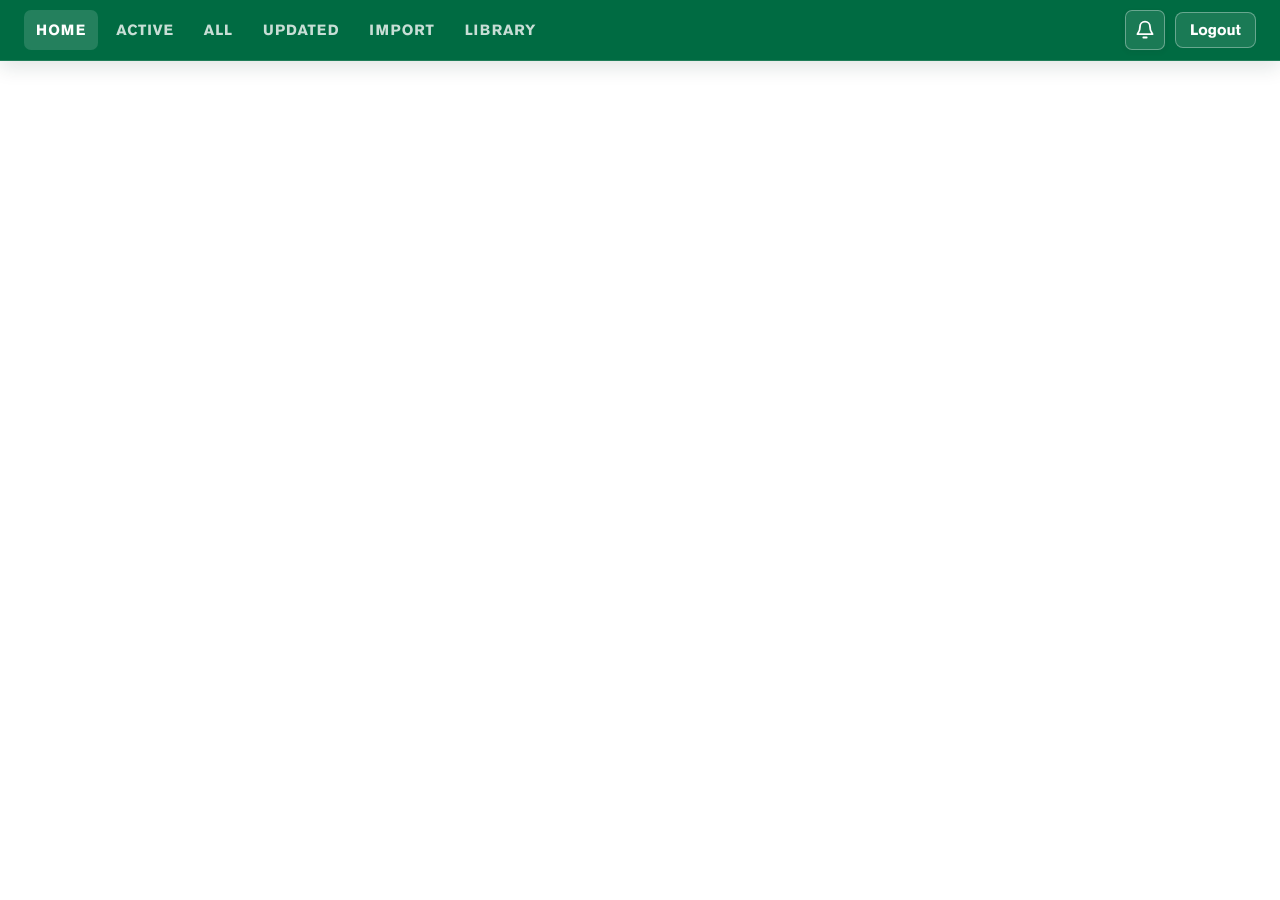
client comment notifications › allows staff to see internal notifications returned by RLS
Click the button named "Messages and acquisitions" at (1145, 30), box [1125,10,1165,50]
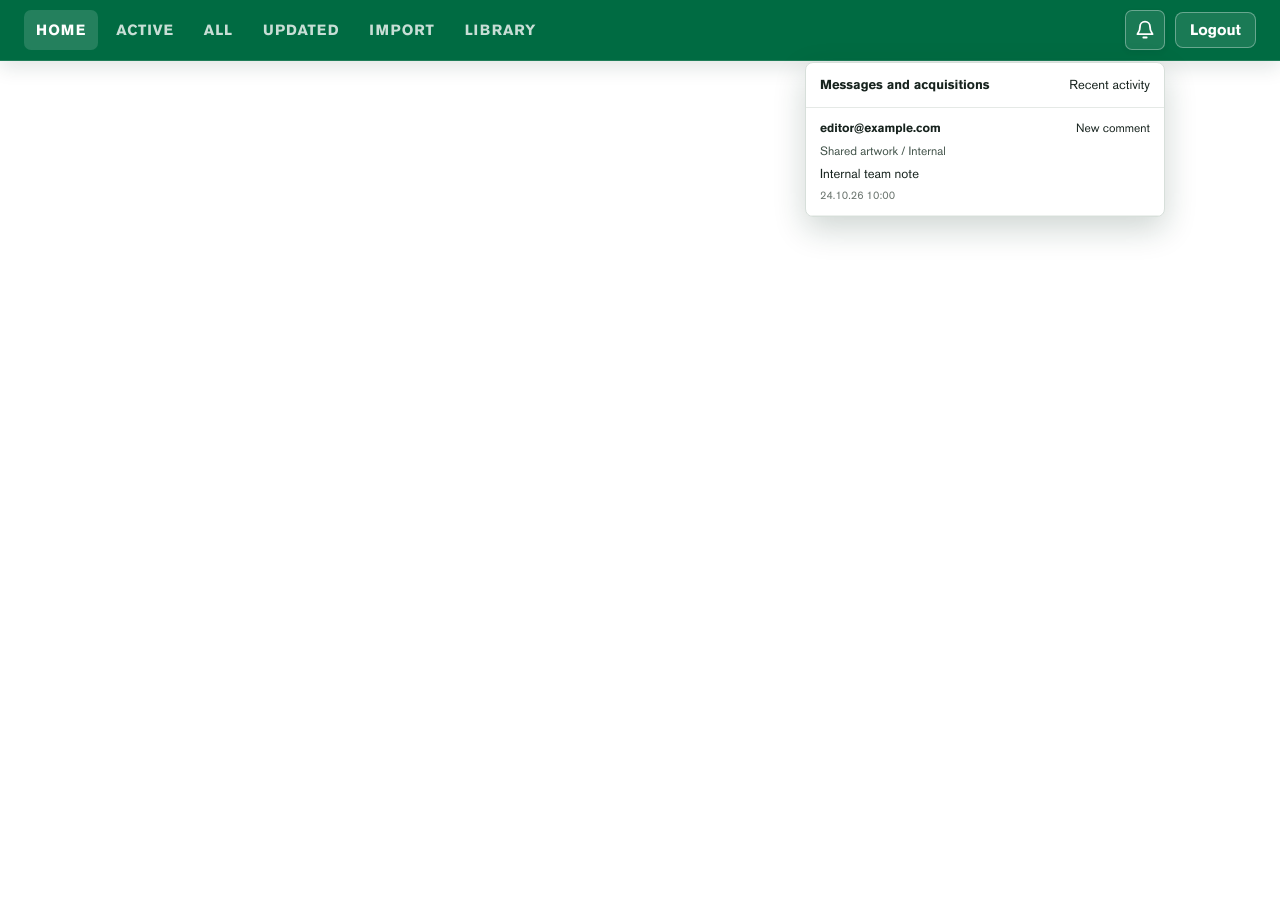
expect the text "Internal team note" is shown: met, box [820,166,919,180]
expect the text "Internal" is shown: met, box [909,144,946,158]
